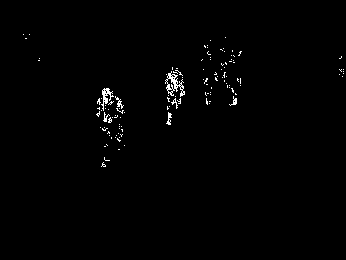person: (97, 88, 126, 168), (165, 67, 186, 126)
